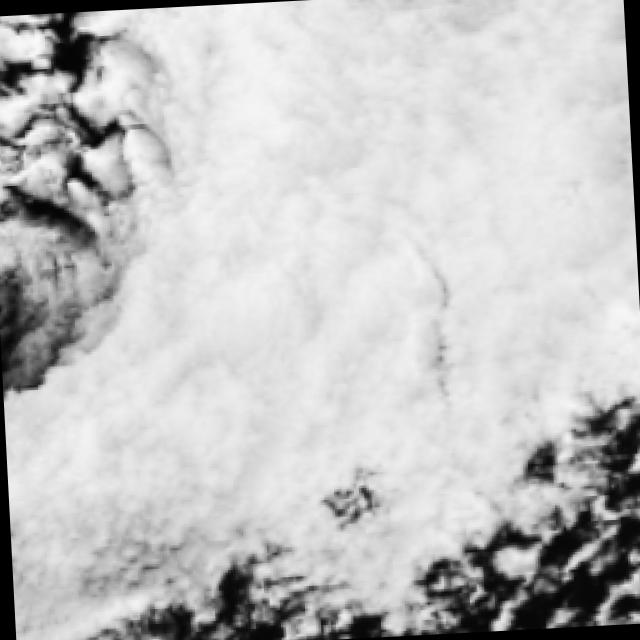CB: (132, 291, 346, 512), (324, 271, 526, 469), (258, 154, 458, 349), (413, 231, 640, 402), (16, 382, 217, 572), (448, 151, 636, 335), (176, 151, 344, 350), (248, 0, 446, 165), (171, 0, 362, 169), (441, 0, 631, 155)
